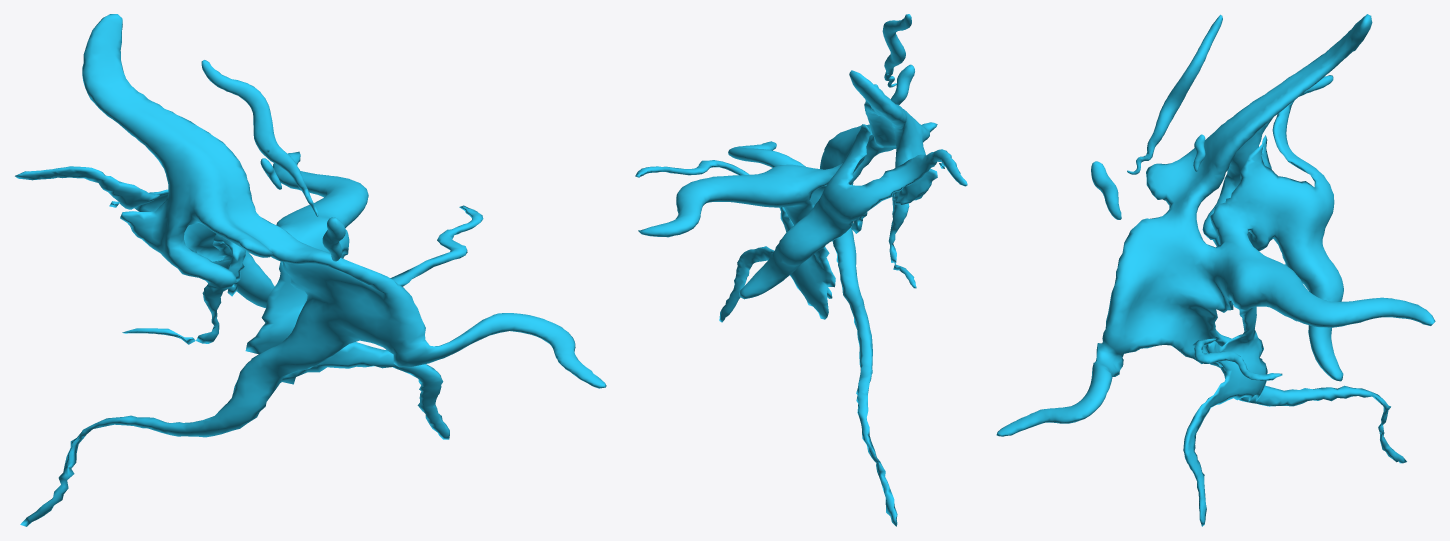
Rendered from asset.glb.
3 renders of one model, left to right at view 1: azimuth 30°, elevation 25°; view 2: azimuth 150°, elevation 25°; view 3: azimuth 270°, elevation 25°, orthographic. The views are drawn at different scales.
Parts seen in each view (by area): view 1: Sphere.003, Sphere, Sphere.002; view 2: Sphere.003, Sphere, Sphere.002; view 3: Sphere.003, Sphere, Sphere.002.
Boxes of the visible parts, <box> form: Sphere.003: <box>15,14,606,526</box>; Sphere: <box>201,60,318,216</box>; Sphere.002: <box>322,217,345,261</box>; Sphere.003: <box>635,70,967,526</box>; Sphere: <box>882,14,911,87</box>; Sphere.002: <box>890,64,914,104</box>; Sphere.003: <box>996,14,1435,526</box>; Sphere: <box>1127,14,1222,174</box>; Sphere.002: <box>1091,161,1121,219</box>.
Size of the model in its own units: 48.49 by 55.95 by 45.81.
